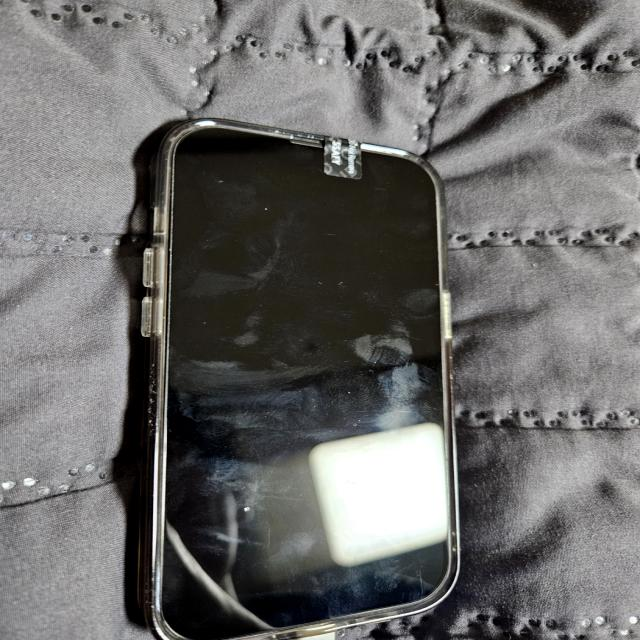phone: (139, 114, 463, 640)
removed_sticker: (324, 136, 364, 180)
